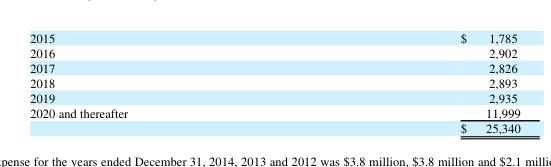table: (29, 28, 519, 136)
table column: (29, 28, 293, 136), (293, 28, 519, 136)
table row: (29, 119, 519, 136), (29, 28, 519, 44), (29, 44, 519, 59), (29, 59, 519, 74), (29, 74, 519, 89), (29, 89, 519, 104), (29, 104, 519, 119)
